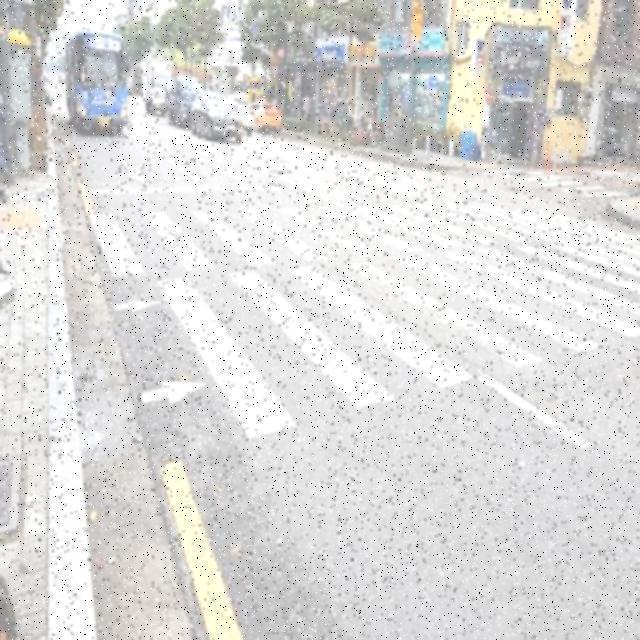crosswalk: (149, 222, 640, 443), (90, 186, 575, 282), (489, 171, 628, 206)
